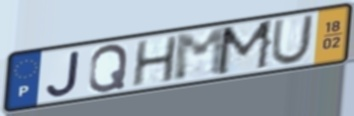H: (129, 33, 180, 89)
J: (44, 49, 82, 99)
M: (215, 18, 277, 79), (172, 25, 228, 84)
Q: (87, 42, 131, 95)
U: (268, 13, 317, 67)
